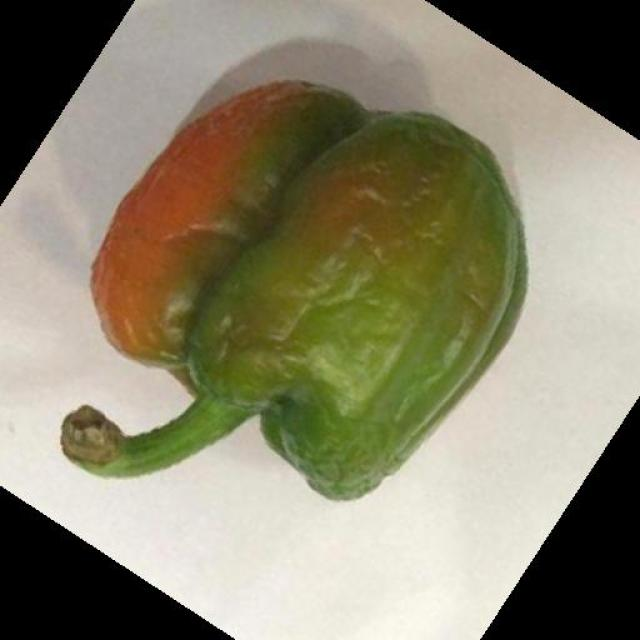Stale_Capsicum: (70, 80, 522, 530)
